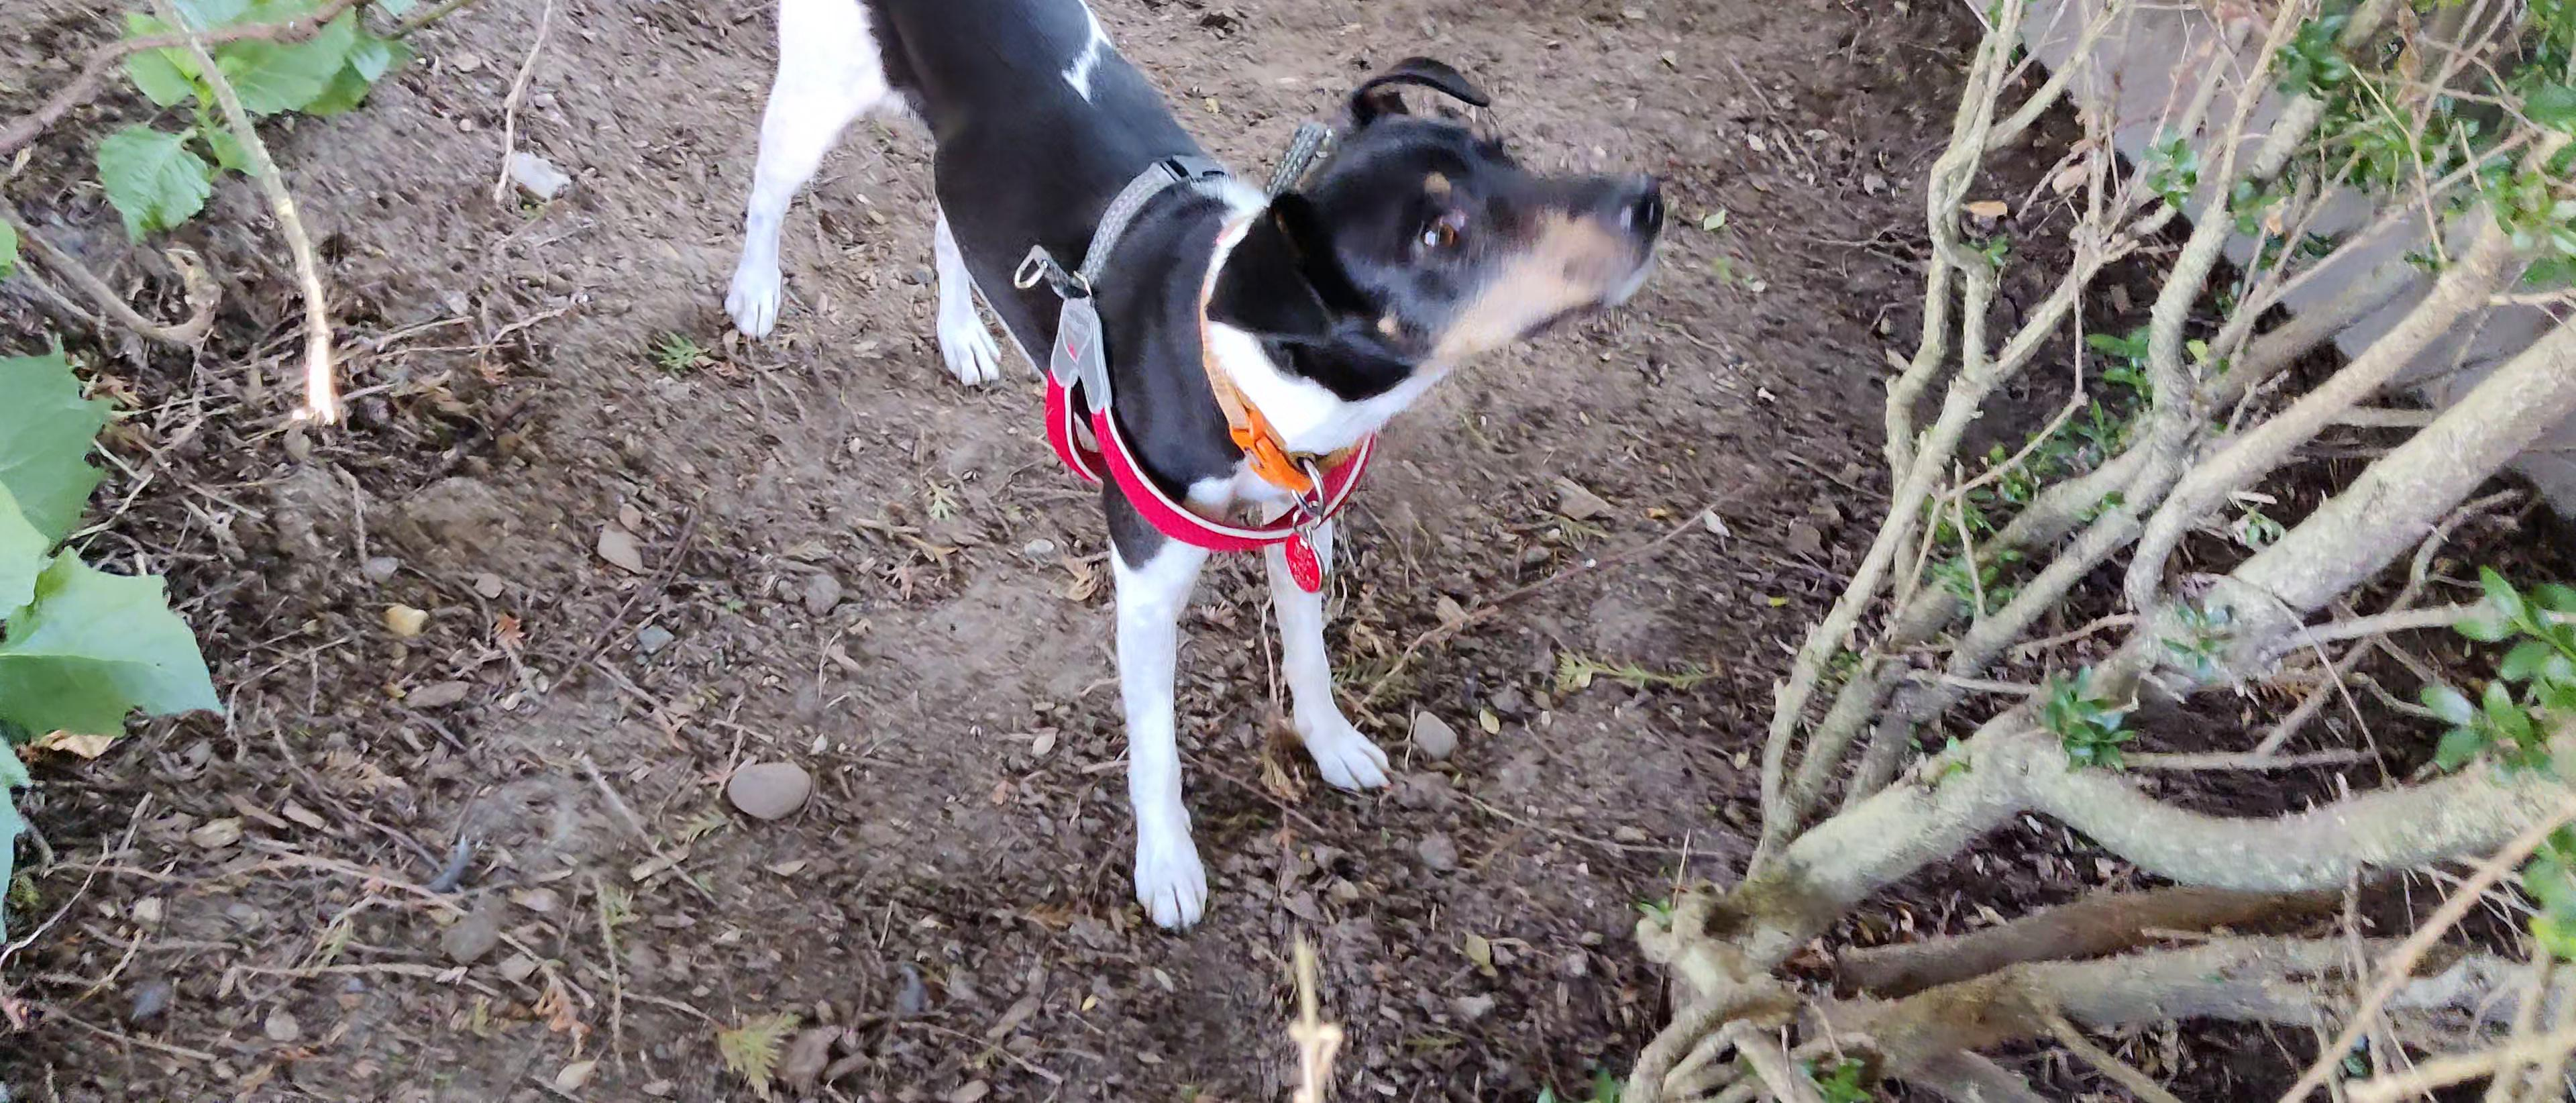Dog: (695, 0, 1690, 955)
